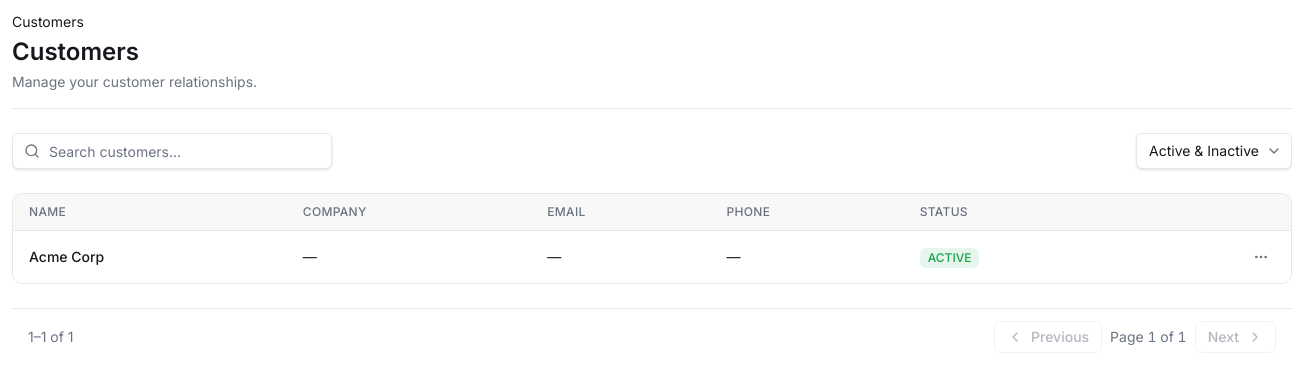
Scenario: CustomersListPage RBAC visibility › EMPLOYEE sees records but no Create customer button and no Edit/Archive row actions
Expected: the link "Acme Corp" is shown, 29,248 -> 104,265
Click the button named "Actions for Acme Corp" at x=1261, y=257, box 1247,243 -> 1275,271
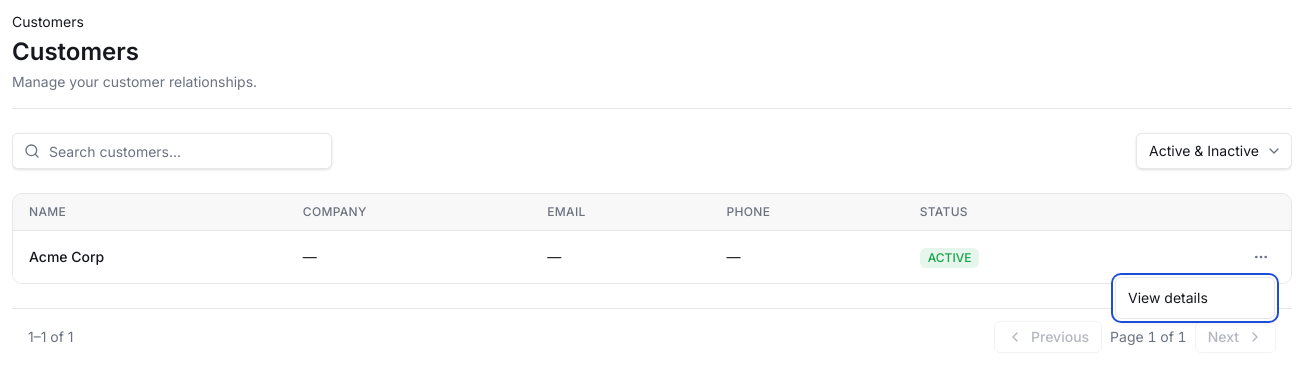
Expected: the menu item "View details" is shown, 1128,289 -> 1208,306
